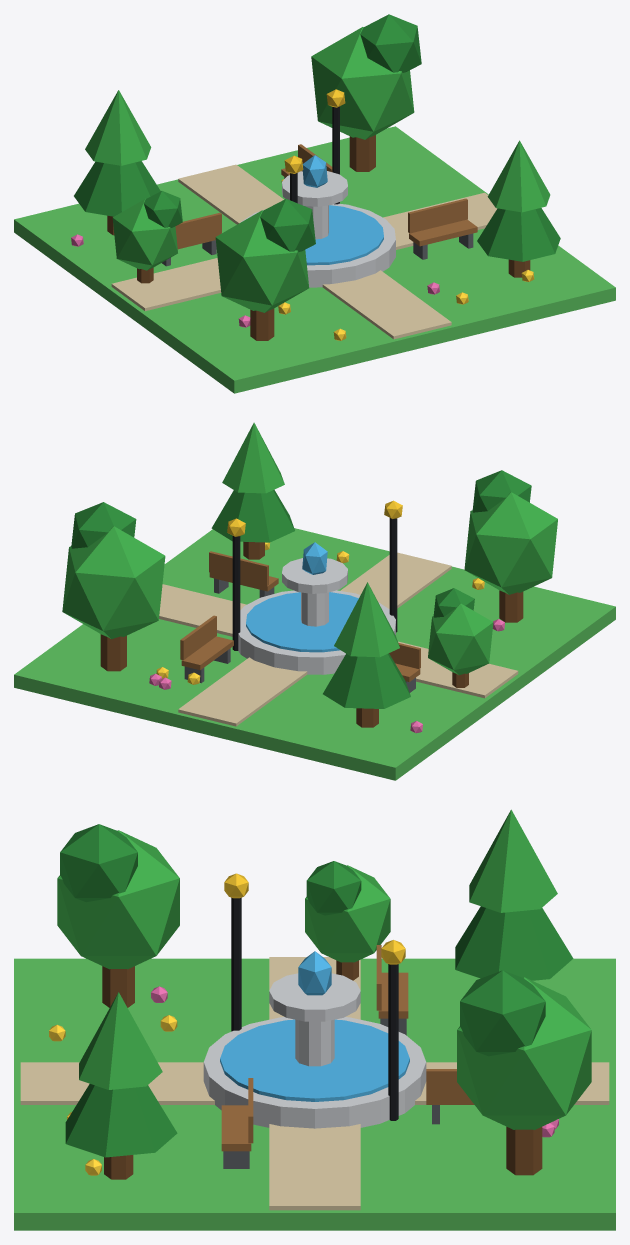
The model's file is sc-park-B8HifNqS.glb.
The picture shows the model from 3 angles, top to bottom: view 1: azimuth 30°, elevation 25°; view 2: azimuth 150°, elevation 25°; view 3: azimuth 270°, elevation 25°; orthographic projection. The views are drawn at different scales.
Parts seen in each view (by area): view 1: sc-park; view 2: sc-park; view 3: sc-park.
Boxes of the visible parts, x1,y1,x2,y2 form: sc-park: (14,14,615,393); sc-park: (14,422,615,780); sc-park: (14,809,615,1230).
Size of the model in its own units: 0.92 by 0.385 by 0.92.
